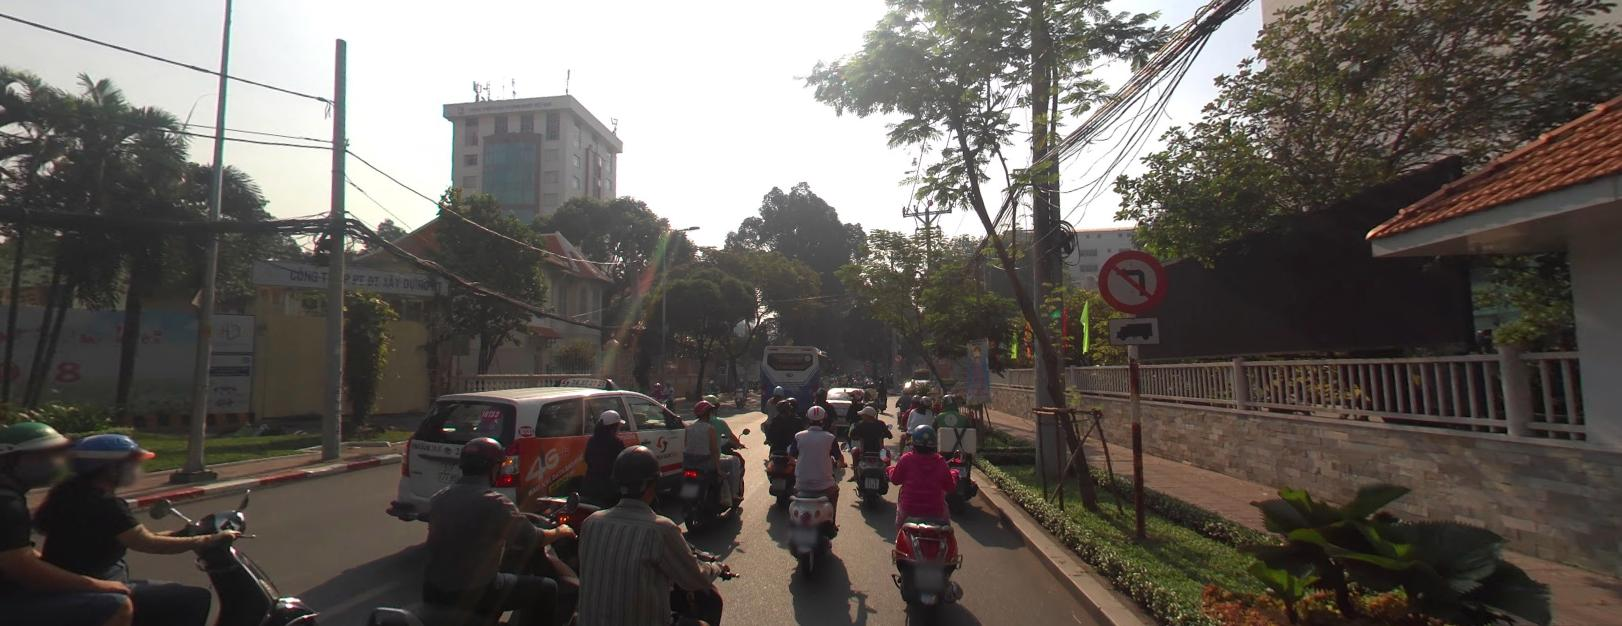Cam re: (1098, 248, 1172, 312), (893, 351, 903, 360)
